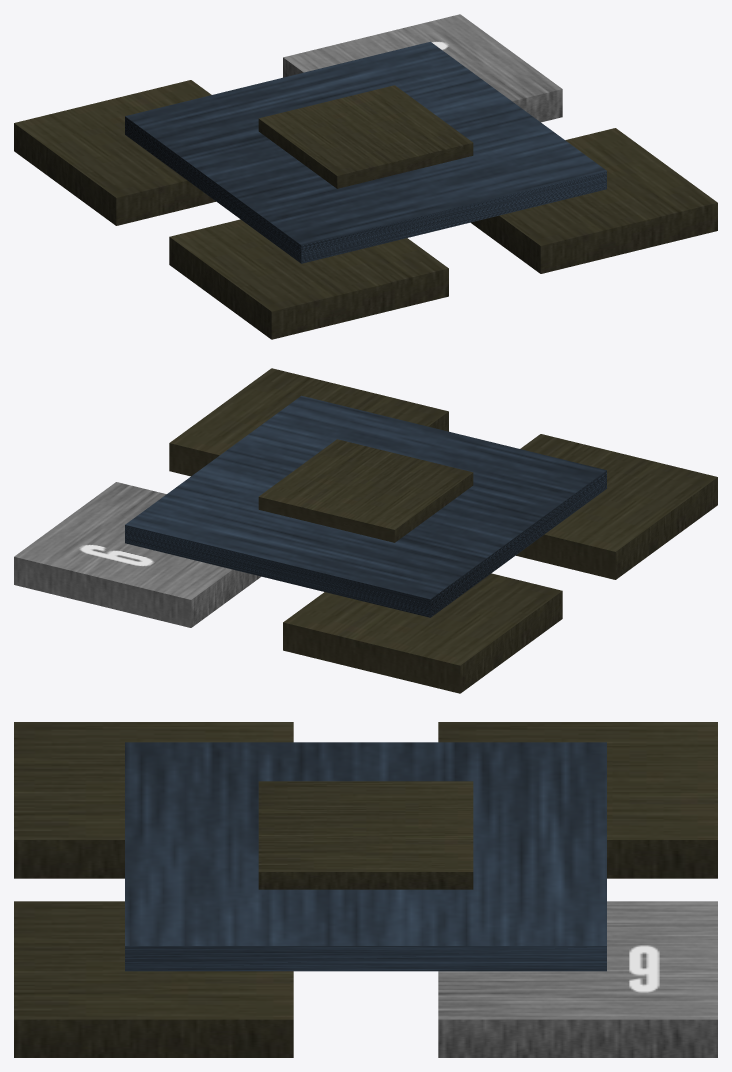
The model's file is Anti_gravity_chassis.obj.
The picture shows the model from 3 angles, top to bottom: view 1: azimuth 30°, elevation 25°; view 2: azimuth 150°, elevation 25°; view 3: azimuth 270°, elevation 25°; orthographic projection. The views are drawn at different scales.
Visible parts, largest first — view 1: pCube5, pCube1, pCube4, pCube2, pCube6, pCube3; view 2: pCube5, pCube2, pCube3, pCube1, pCube6, pCube4; view 3: pCube5, pCube3, pCube4, pCube6, pCube1, pCube2.
Boxes of the visible parts, x1,y1,x2,y2 form: pCube5: (125,41,606,263); pCube1: (169,219,448,339); pCube4: (471,128,717,273); pCube2: (14,80,215,225); pCube6: (258,85,473,188); pCube3: (283,14,562,122); pCube5: (125,395,606,617); pCube2: (283,573,562,693); pCube3: (14,482,260,627); pCube1: (516,434,717,579); pCube6: (258,439,473,542); pCube4: (169,368,448,476); pCube5: (125,742,606,971); pCube3: (438,901,717,1057); pCube4: (14,901,293,1057); pCube6: (258,781,473,889); pCube1: (14,722,293,878); pCube2: (438,722,717,878).
Size of the model in its own units: 13.27 by 1.72 by 13.27.
